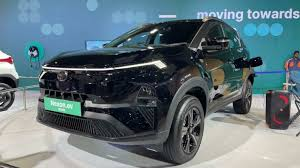Tata Nexon: (35, 18, 254, 163)
